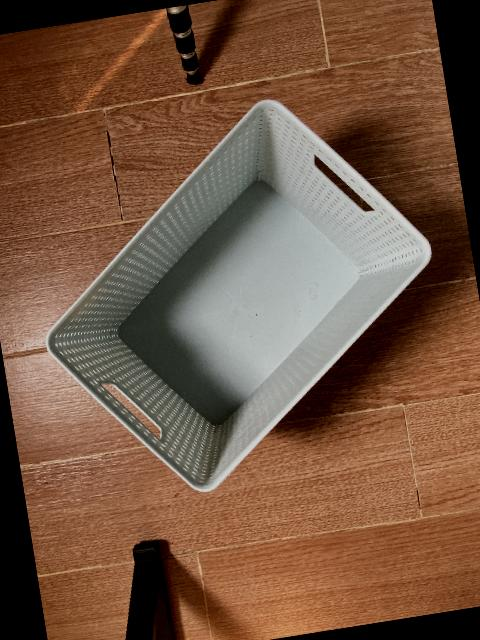cart: (45, 99, 432, 492)
